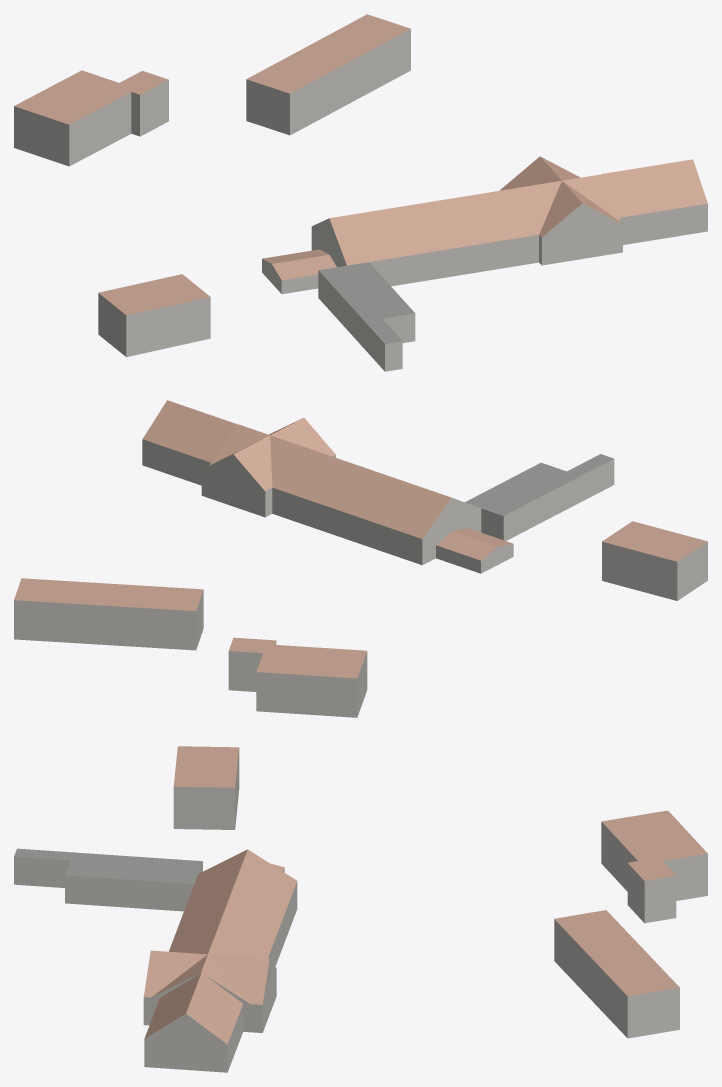
The model's file is gridID_114.dae.
The picture shows the model from 3 angles, top to bottom: view 1: azimuth 30°, elevation 25°; view 2: azimuth 150°, elevation 25°; view 3: azimuth 270°, elevation 25°; orthographic projection. The views are drawn at different scales.
Parts seen in each view (by area): view 1: model_gridID_114_w380978816, model_gridID_114_w169917403, model_gridID_114_w169917411, model_gridID_114_r6179404, model_gridID_114_w380978816_001; view 2: model_gridID_114_w380978816, model_gridID_114_w169917403, model_gridID_114_w169917411, model_gridID_114_w380978816_001, model_gridID_114_r6179404; view 3: model_gridID_114_w380978816, model_gridID_114_w169917403, model_gridID_114_w169917411, model_gridID_114_w380978816_001, model_gridID_114_r6179404.
Boxes of the visible parts, x1,y1,x2,y2 form: model_gridID_114_w380978816: (262, 156, 707, 294); model_gridID_114_w169917403: (246, 14, 410, 135); model_gridID_114_w169917411: (14, 70, 168, 166); model_gridID_114_r6179404: (98, 274, 210, 357); model_gridID_114_w380978816_001: (318, 262, 415, 371); model_gridID_114_w380978816: (142, 400, 513, 573); model_gridID_114_w169917403: (14, 578, 203, 650); model_gridID_114_w169917411: (228, 637, 367, 717); model_gridID_114_w380978816_001: (465, 454, 614, 540); model_gridID_114_r6179404: (602, 521, 707, 600); model_gridID_114_w380978816: (143, 849, 297, 1072); model_gridID_114_w169917403: (554, 910, 679, 1038); model_gridID_114_w169917411: (601, 810, 707, 923); model_gridID_114_w380978816_001: (14, 848, 202, 911); model_gridID_114_r6179404: (173, 746, 239, 829).
Bounding box in the file's own units: 108 × 112 × 10.
